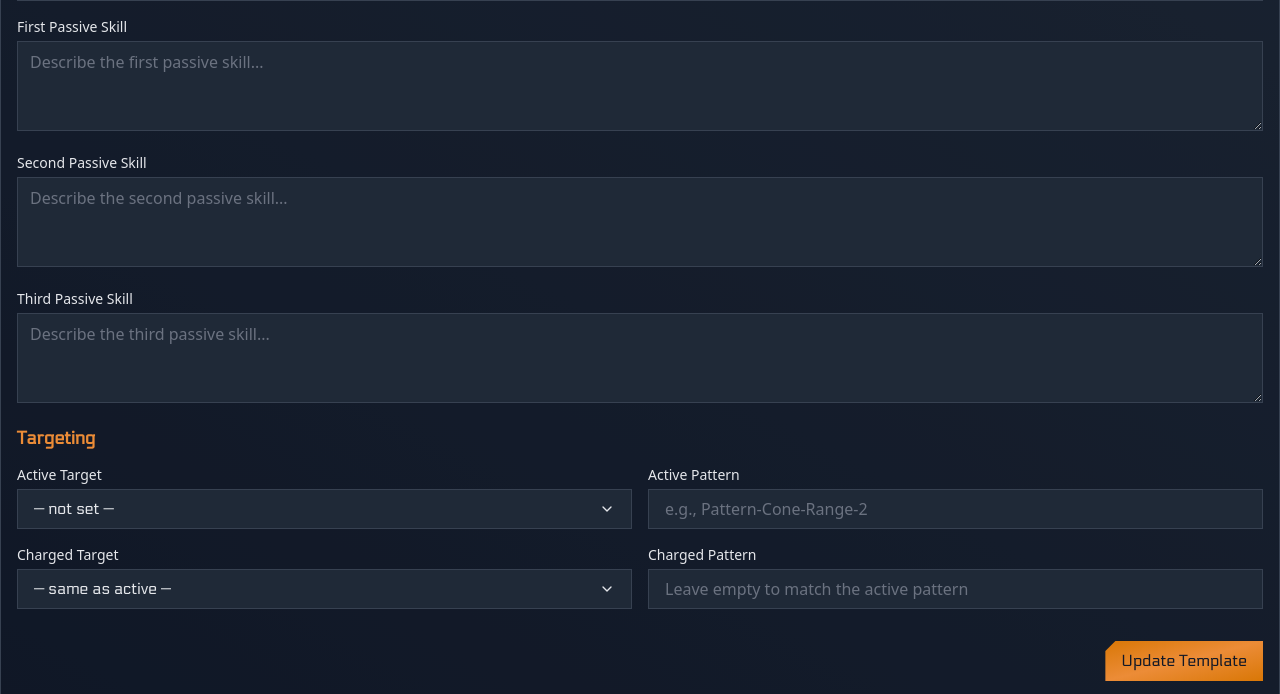
Test: AddShipTemplateForm — targeting fields › blocks submission while a pattern is unparseable, and unblocks when it parses
(page scrolled)
Check: the button "Update Template" is enabled, box 1105,641 -> 1263,681
Type "Pattern-Nonsense" into the field labelled "Active Pattern" at (956, 509), box 648,489 -> 1263,529
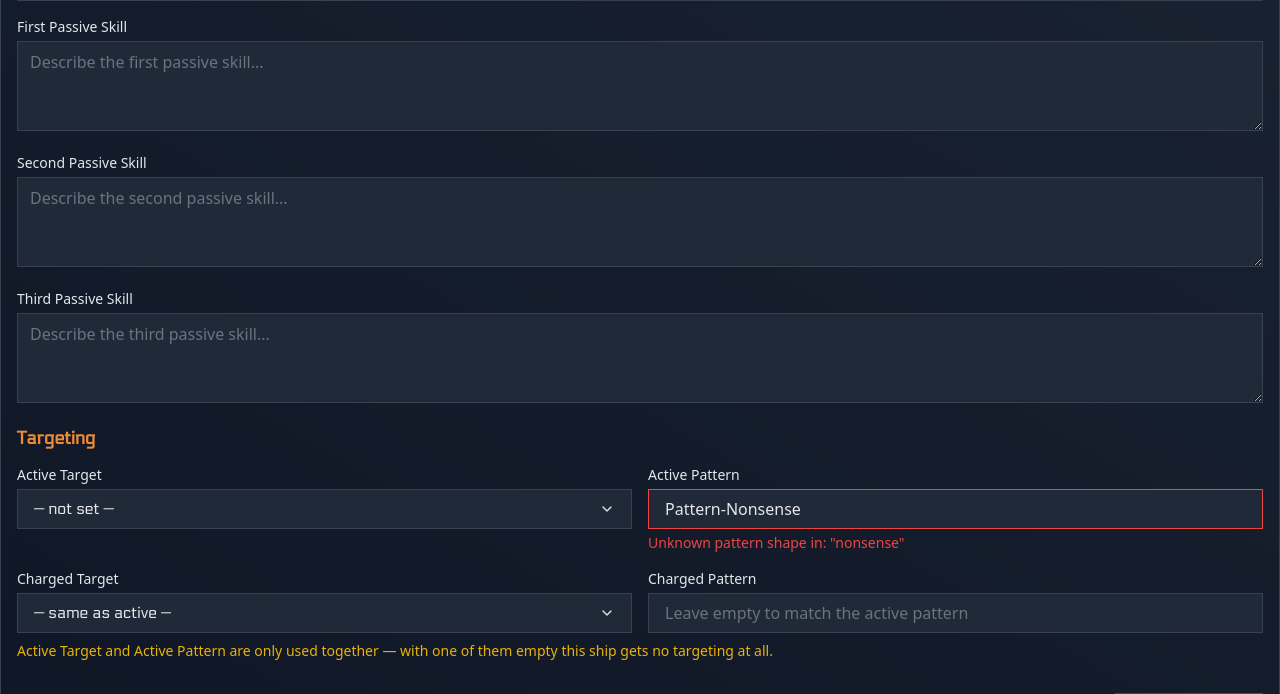
Check: the text "Unknown pattern shape in: \"nonsense\"" is shown, box 648,533 -> 905,552
Replace the text in the field labelled "Active Pattern" with "Pattern-Cone-Range-2" at (956, 509), box 648,489 -> 1263,529
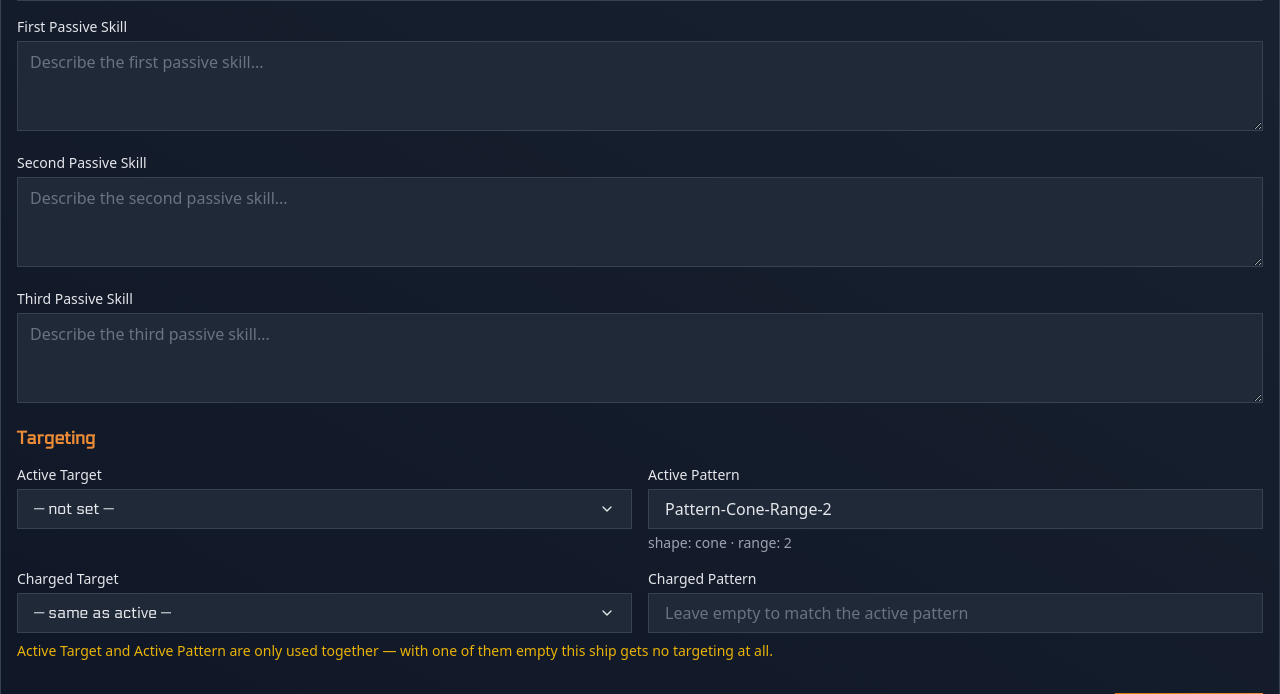
Check: the text "shape: cone · range: 2" is shown, box 648,533 -> 792,552
